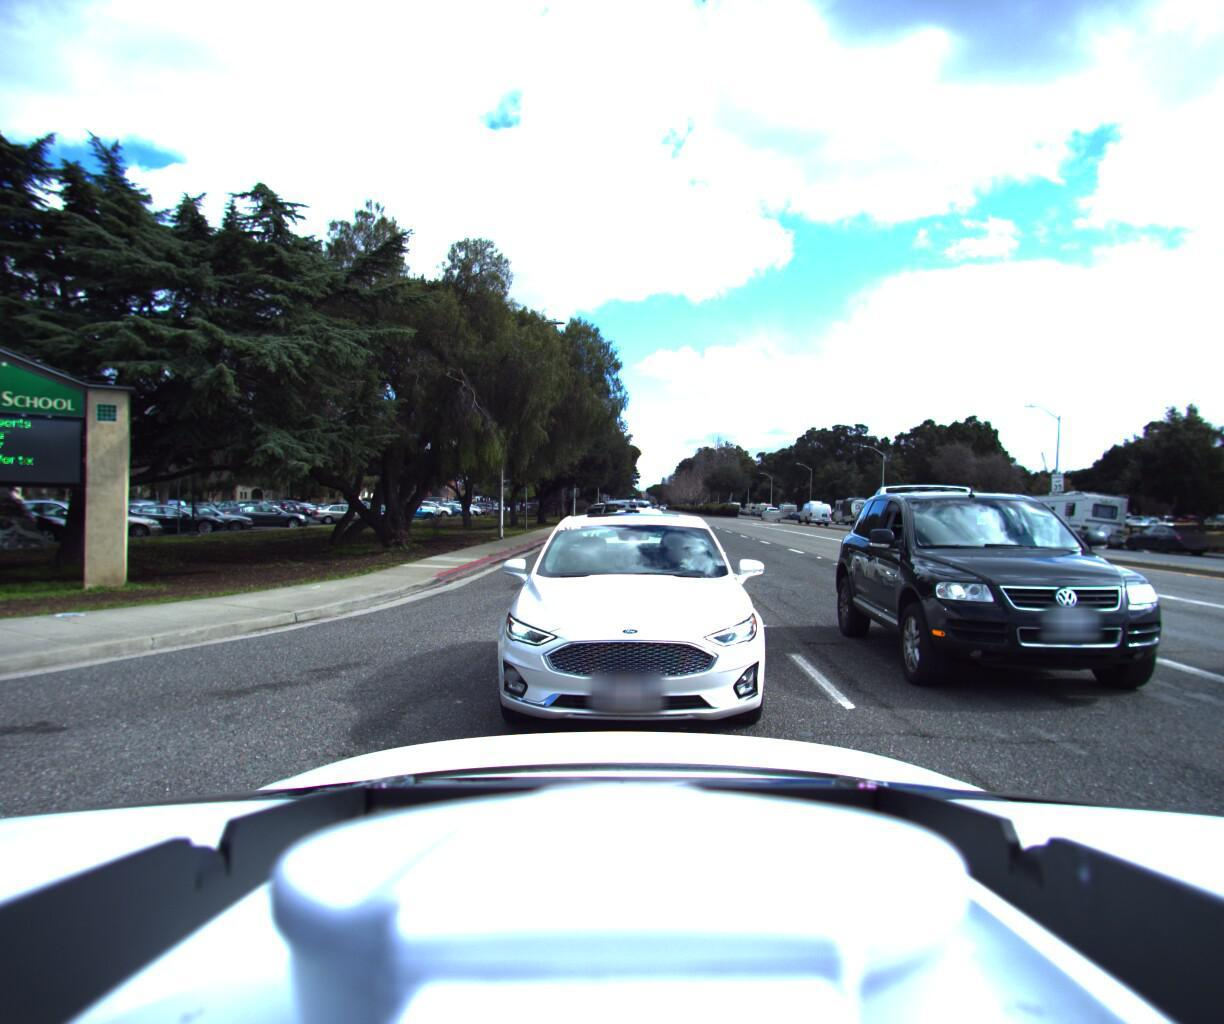car: (825, 467, 1220, 727), (477, 501, 783, 754), (571, 492, 674, 591), (618, 497, 692, 567), (1118, 527, 1216, 562), (588, 496, 644, 549), (793, 500, 827, 527)
other_vehicle: (1012, 487, 1131, 553)
